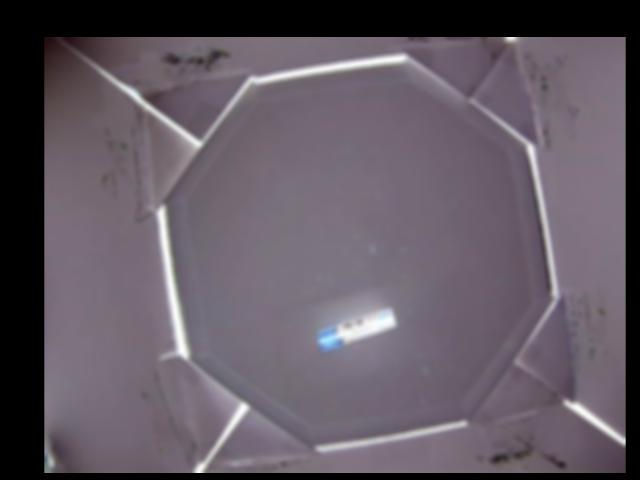Battery: (315, 307, 400, 352)
